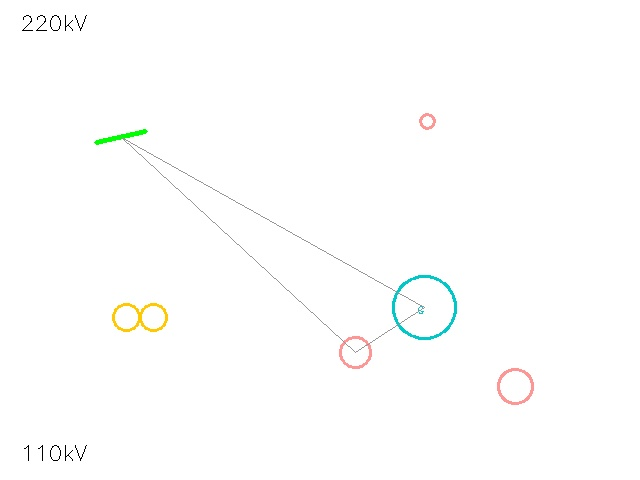busbar: (90, 106, 152, 168)
feeder_terminal: (481, 352, 549, 420)
generator: (393, 276, 455, 338)
reactor: (412, 106, 442, 136)
transformer_2w: (106, 283, 174, 351)
voltage_transformer: (324, 321, 386, 383)
